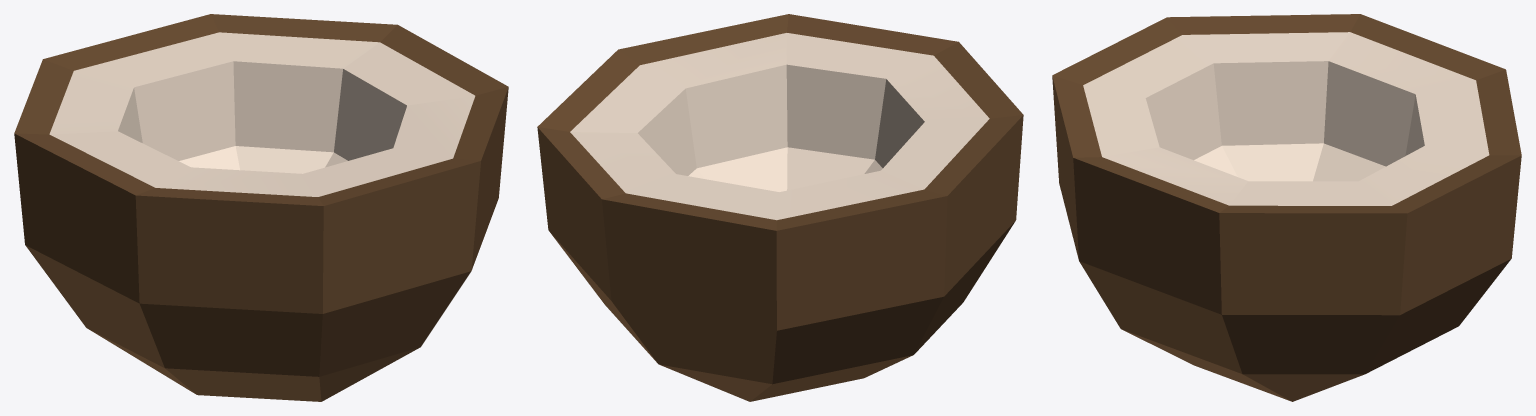
Rendered from food_coconut-open.fbx.
3 views of the same model, side by side, from view 1: azimuth 30°, elevation 25°; view 2: azimuth 150°, elevation 25°; view 3: azimuth 270°, elevation 25° (orthographic). The views are drawn at different scales.
Visible parts, largest first — view 1: food_coconut_open; view 2: food_coconut_open; view 3: food_coconut_open.
Part boxes in pixels (<box>): food_coconut_open: <box>14,14,508,401</box>; food_coconut_open: <box>537,14,1023,401</box>; food_coconut_open: <box>1052,14,1521,401</box>.
Size of the model in its own units: 199 by 123 by 200.
